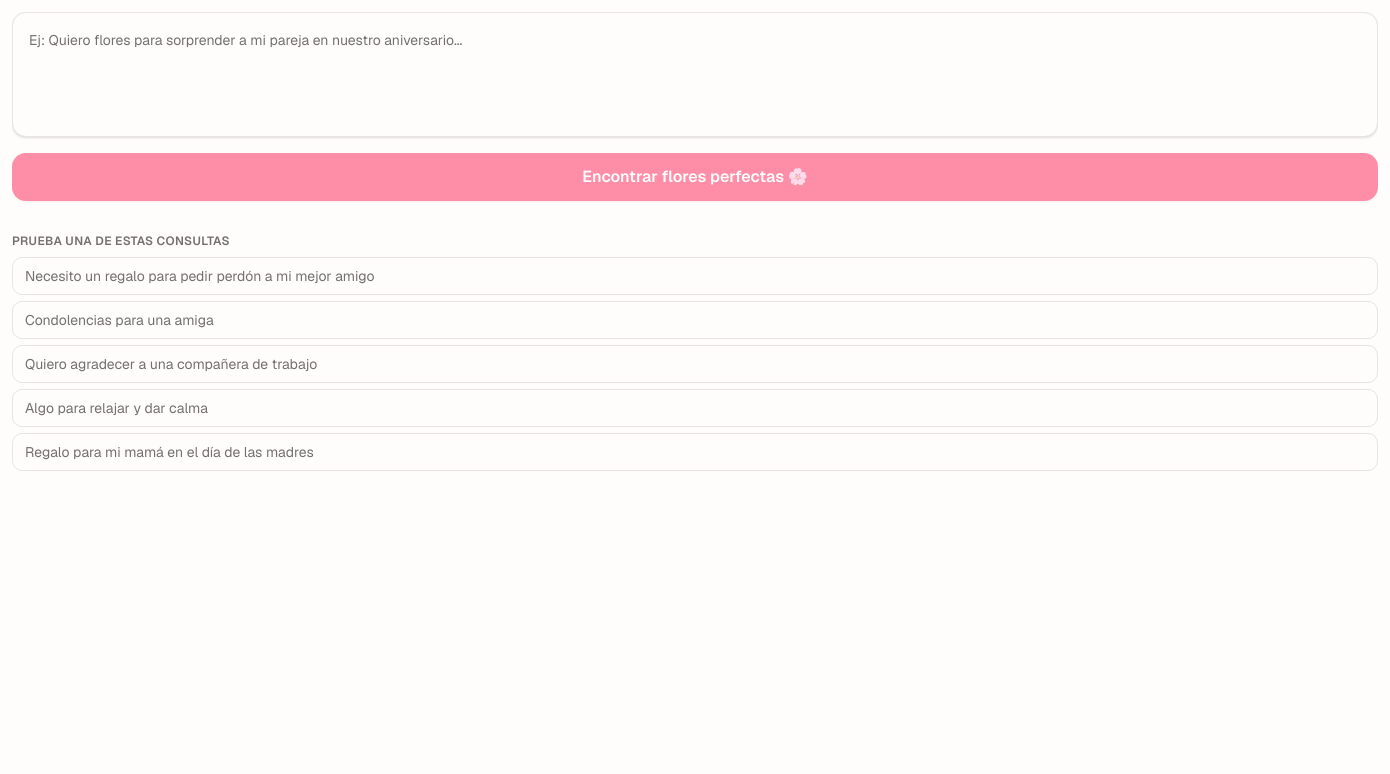
Test: RecomendadorForm › muestra la intención detectada tras recibir respuesta
Replace the text in the text box with "flores románticas" at (695, 74), box [12,12,1378,137]
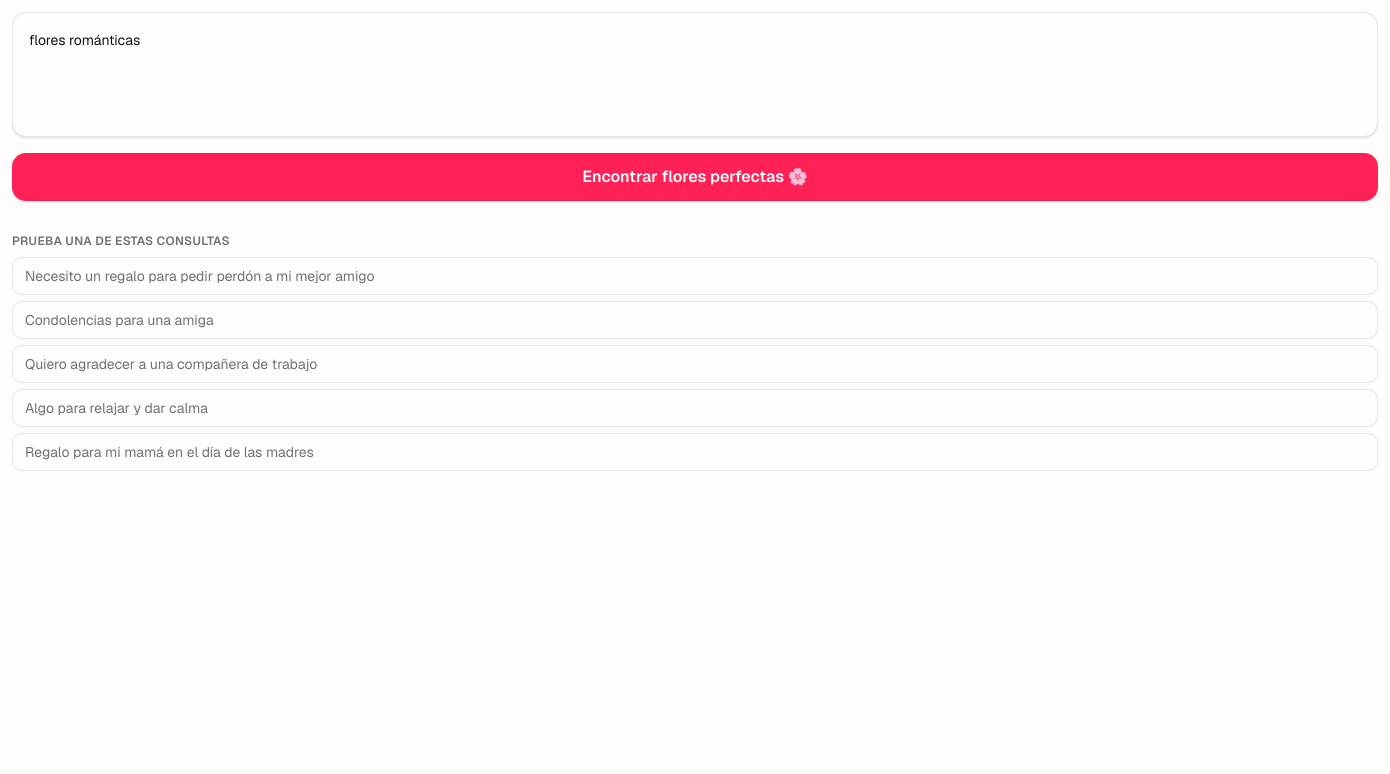
Click the button "Encontrar flores perfectas 🌸" at (695, 177), box [12,153,1378,201]
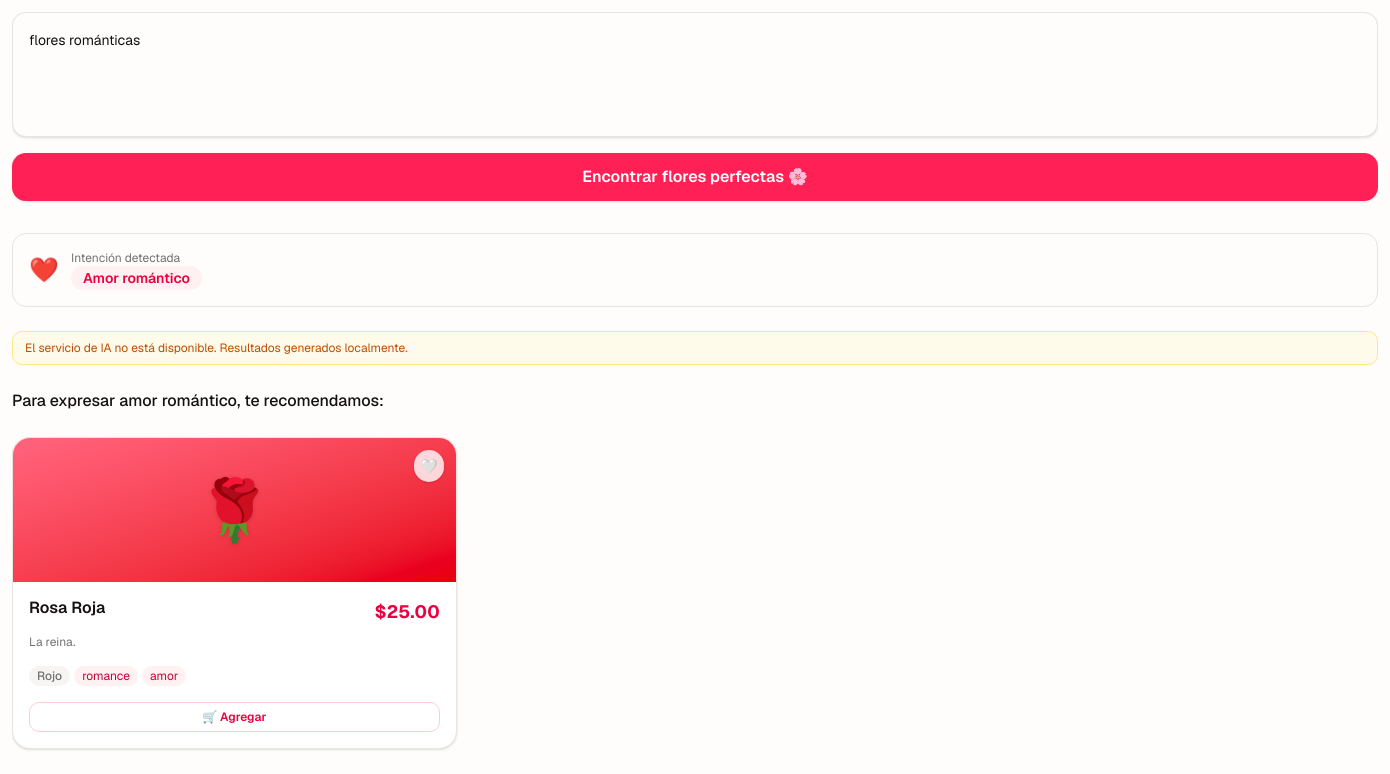
Expected: the text "Amor romántico" is shown, [71,266,202,290]
